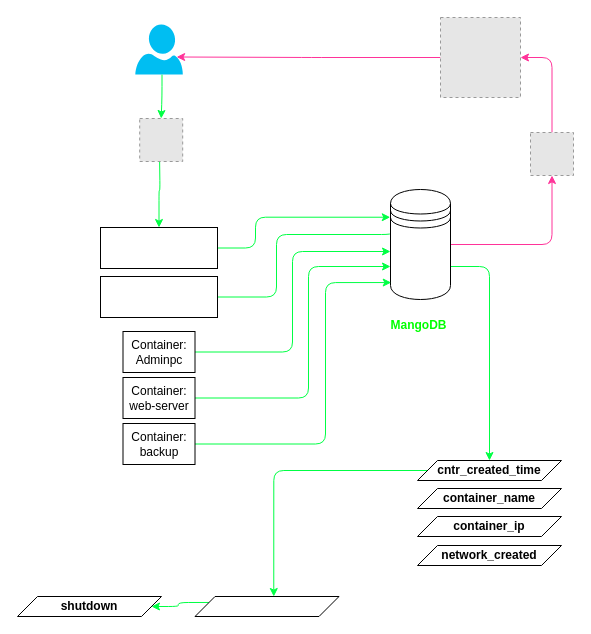
Some shapes in this 591 by 634 pixel diagram are drawn without their labels. Grey dashed boxes stand in for pictures. The shapes that lost their labels are listed below. From the top down, each one's centre as x and y in pixels, then its label:
point (159, 247): Network Name filetrasnfer_xxxxx
point (159, 297): Subnet 10.0.100.0/29
point (266, 606): 1H
